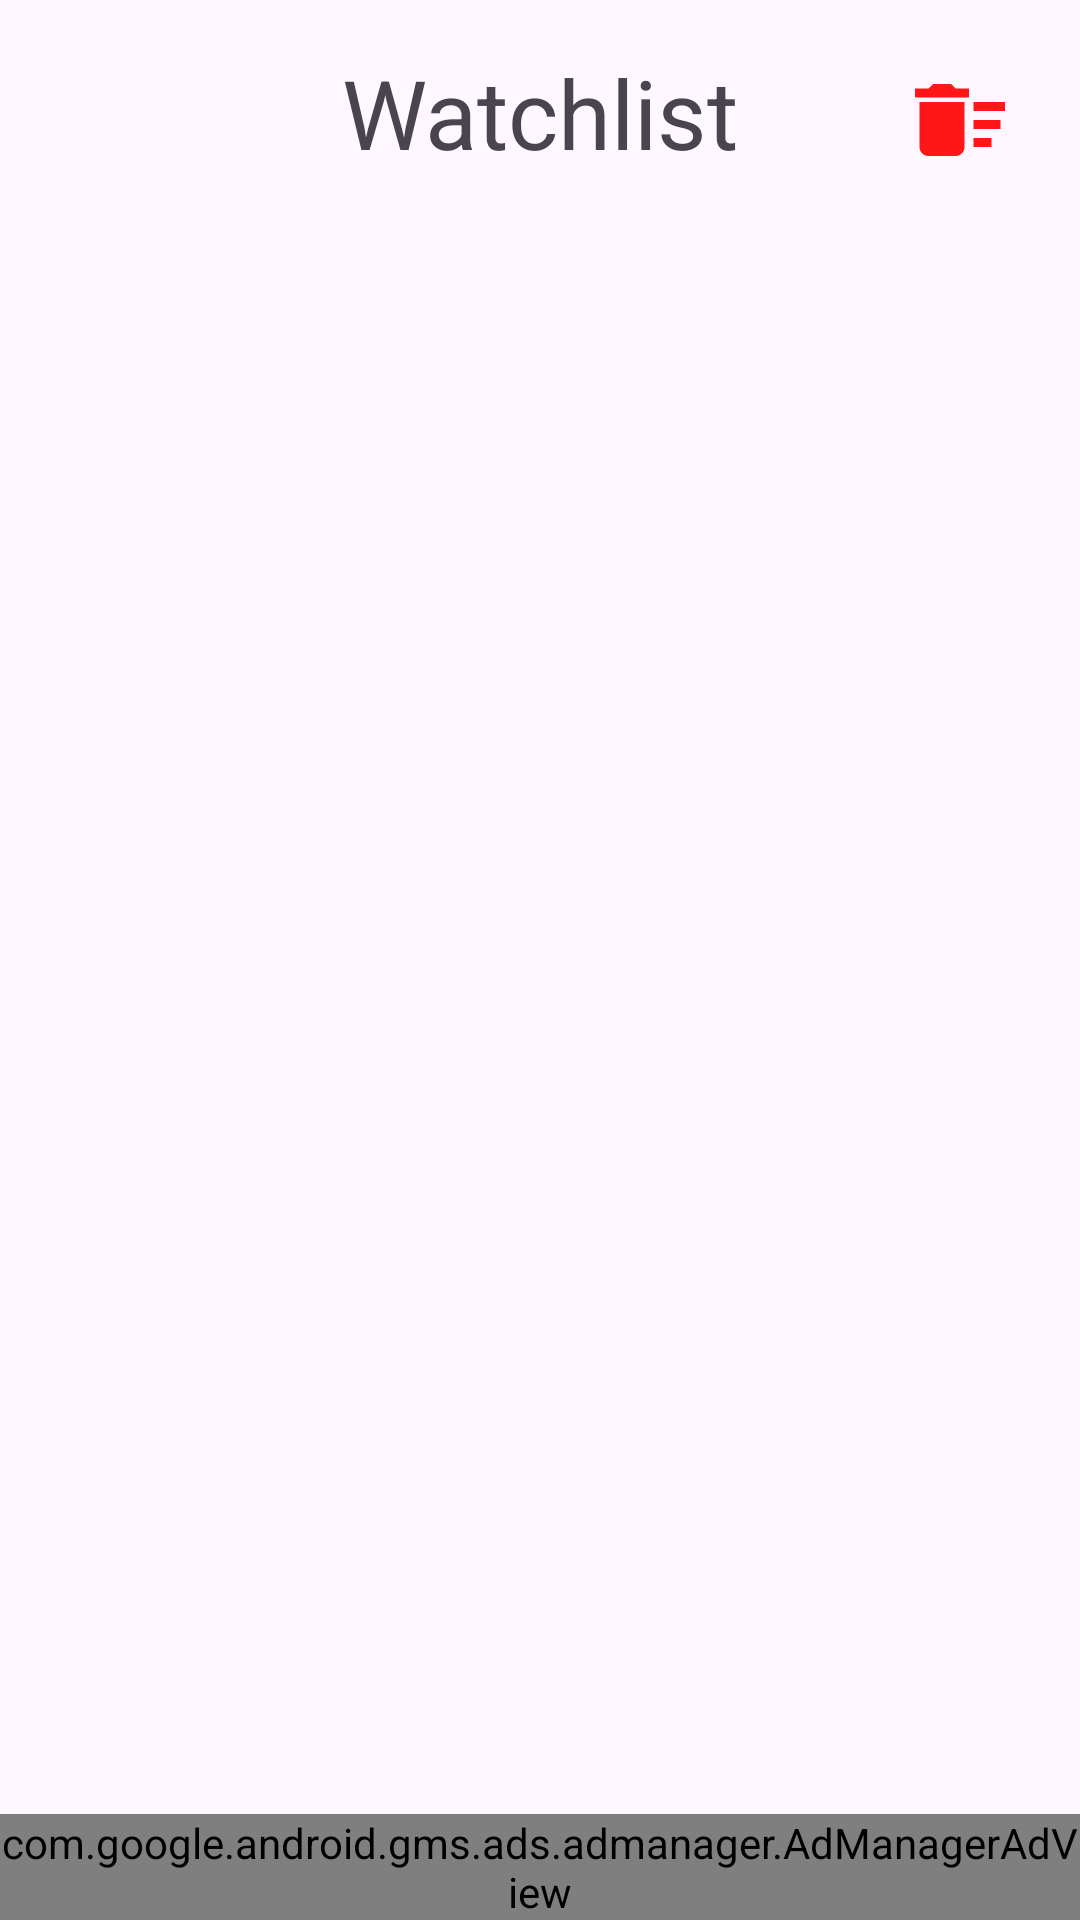

Icon click points for this 1080×1920 phone screenshot, format (x,y):
Delete All: (960,120)
